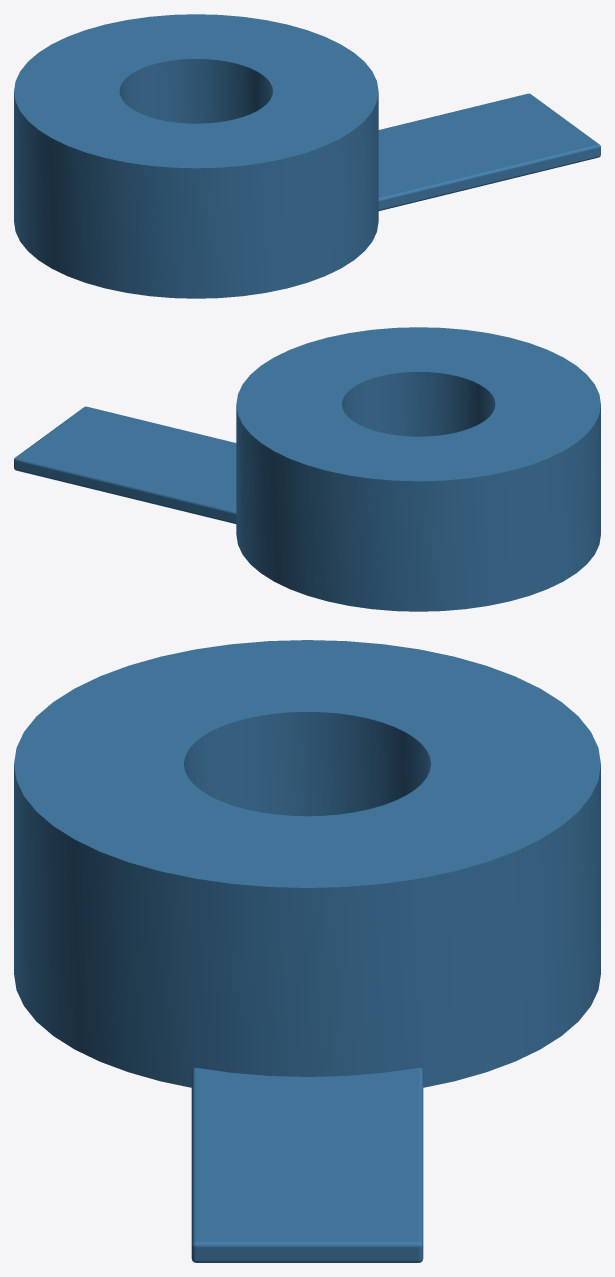
File: squash-club-and-racket-workshop-grip-roll-0680f8fc__29759.glb
The picture shows the model from 3 angles, top to bottom: view 1: azimuth 30°, elevation 25°; view 2: azimuth 150°, elevation 25°; view 3: azimuth 270°, elevation 25°; orthographic projection. The views are drawn at different scales.
Parts seen in each view (by area): view 1: grip-roll; view 2: grip-roll; view 3: grip-roll.
Part boxes in pixels (x1,y1,x2,y2): grip-roll: (14, 14, 600, 298); grip-roll: (14, 327, 600, 611); grip-roll: (14, 640, 600, 1262).
Bounding box in the file's own units: 0.127 × 0.03 × 0.076.
